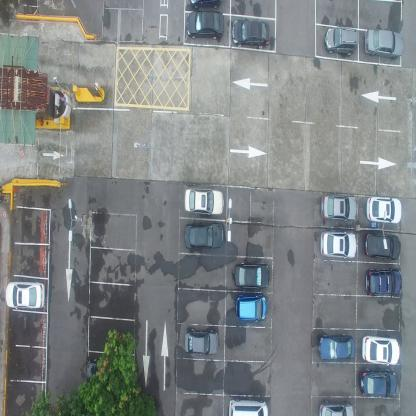car: (364, 27, 403, 61), (362, 333, 400, 367), (231, 18, 270, 50), (86, 359, 124, 391), (184, 220, 224, 250), (184, 187, 224, 217), (5, 280, 45, 310), (320, 229, 357, 260), (359, 368, 397, 398), (186, 10, 224, 40), (365, 267, 402, 297), (324, 26, 358, 58), (321, 192, 357, 222), (364, 231, 400, 261), (184, 326, 219, 356), (233, 261, 269, 290), (366, 195, 402, 224), (318, 333, 355, 361), (235, 294, 266, 321), (228, 397, 269, 415), (318, 398, 354, 416), (190, 0, 222, 8)
